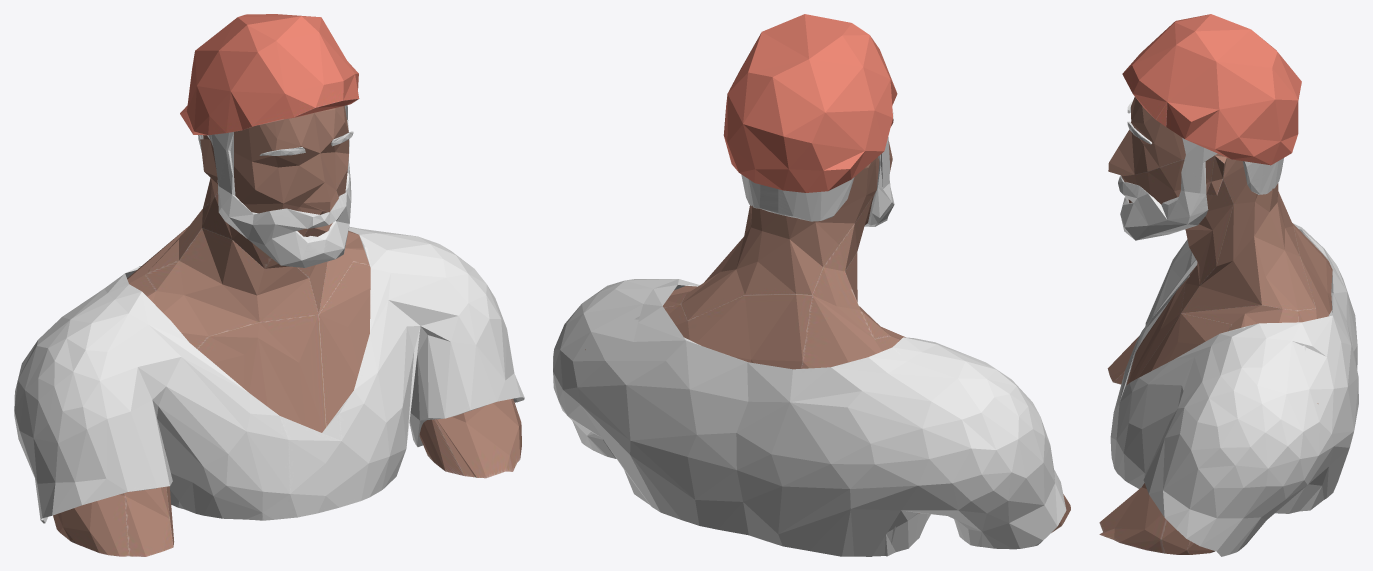
Rendered from mate.glb.
3 renders of one model, left to right at view 1: azimuth 30°, elevation 25°; view 2: azimuth 150°, elevation 25°; view 3: azimuth 270°, elevation 25°, orthographic. The views are drawn at different scales.
Parts seen in each view (by area): view 1: ??; view 2: ??; view 3: ??.
Boxes of the visible parts, x1,y1,x2,y2 form: ??: (14, 14, 524, 556); ??: (553, 14, 1070, 556); ??: (1099, 14, 1358, 556).
Bounding box in the file's own units: 16.26 × 15 × 8.22.
Materials: 1 (1 with a texture image).
